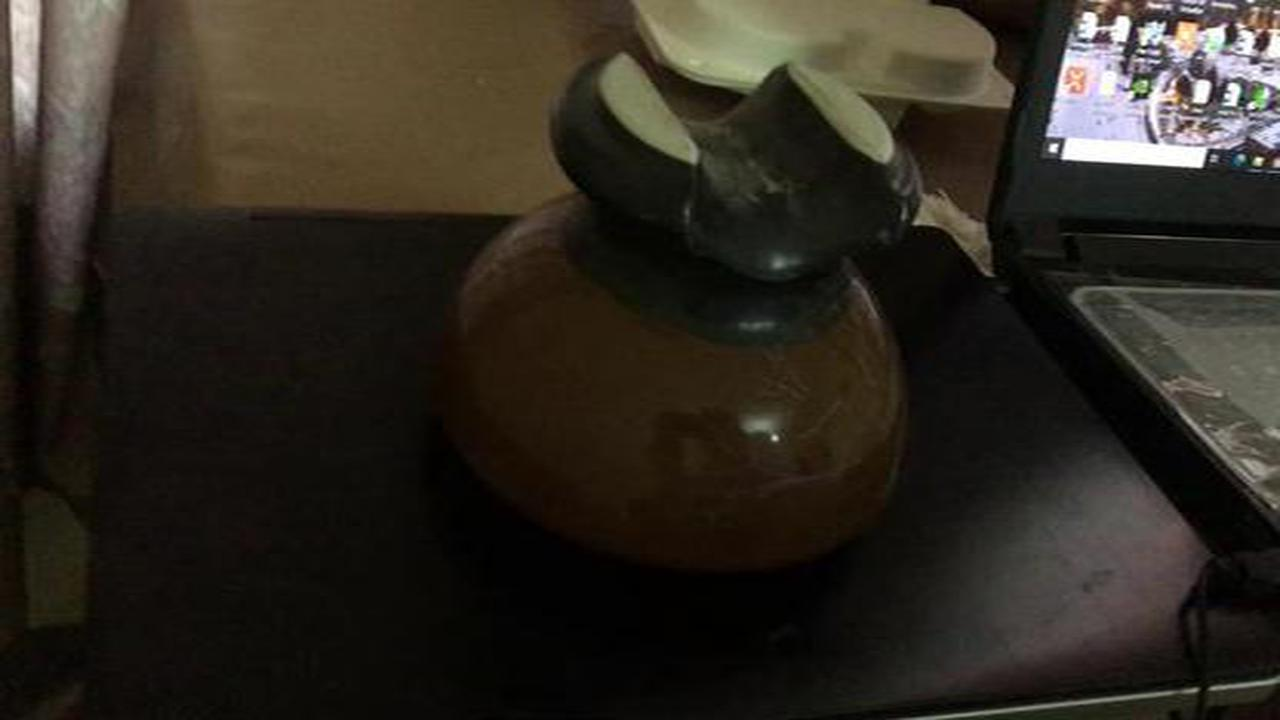insulator_pin: (413, 42, 954, 586)
